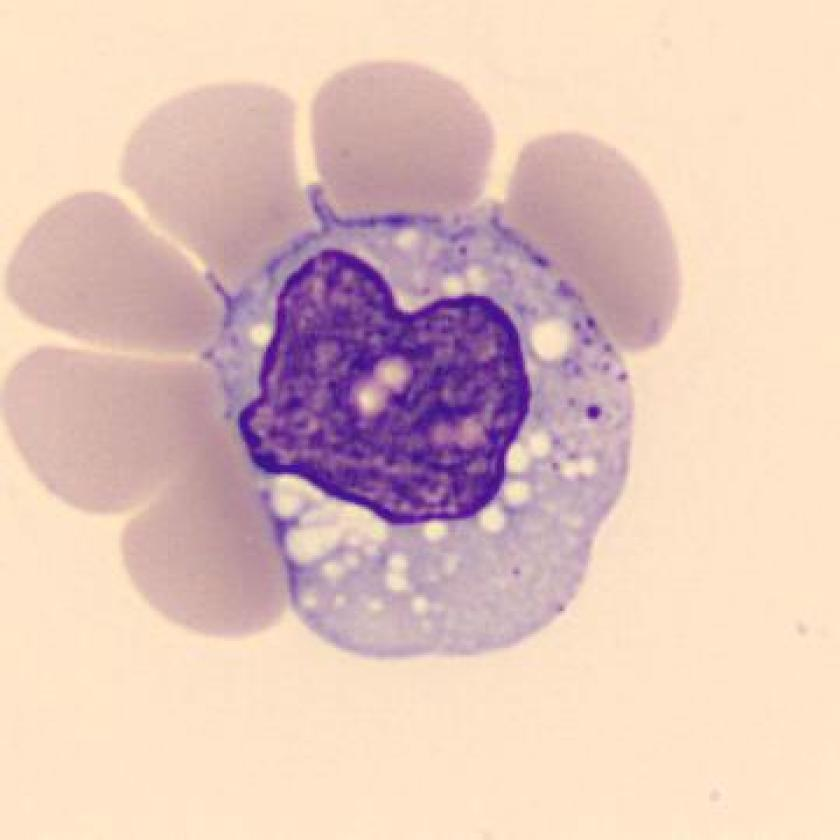monocyte: (199, 184, 650, 670)
